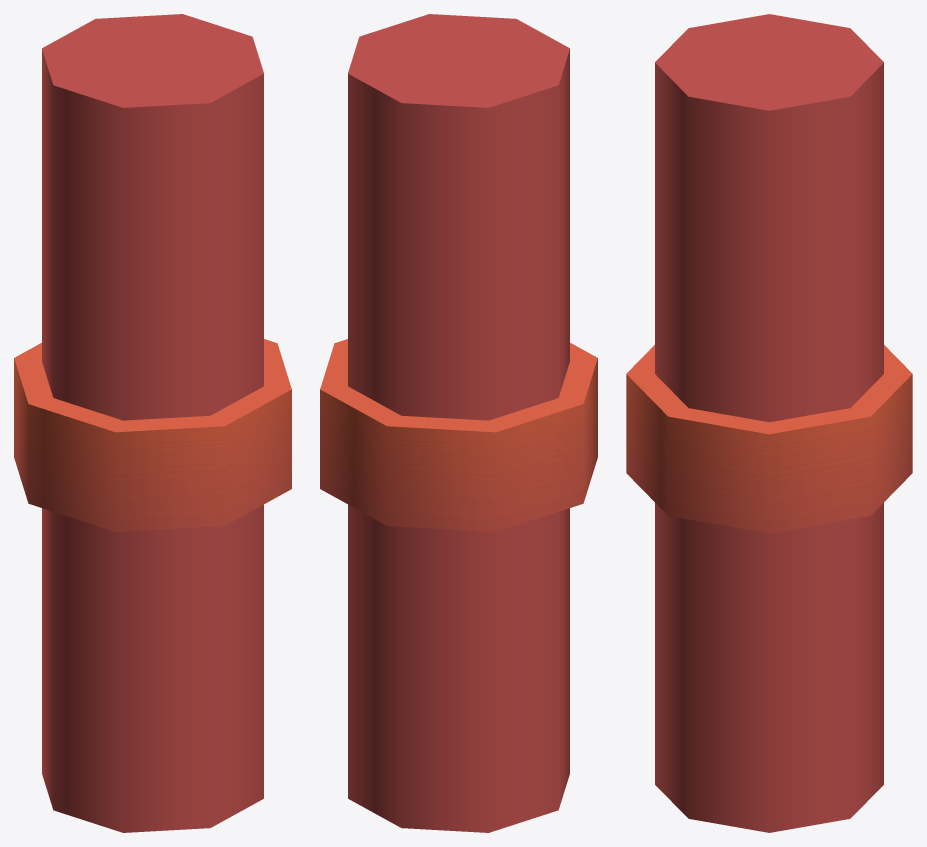
The model's file is support-small.glb.
3 views of the same model, side by side, from view 1: azimuth 30°, elevation 25°; view 2: azimuth 150°, elevation 25°; view 3: azimuth 270°, elevation 25° (orthographic).
Parts seen in each view (by area): view 1: support-small; view 2: support-small; view 3: support-small.
Part boxes in pixels (<box>): support-small: <box>14,14,291,832</box>; support-small: <box>320,14,597,832</box>; support-small: <box>626,14,912,832</box>.
Size of the model in its own units: 0.3595 by 1 by 0.3595.
Materials: 1 (1 with a texture image).
